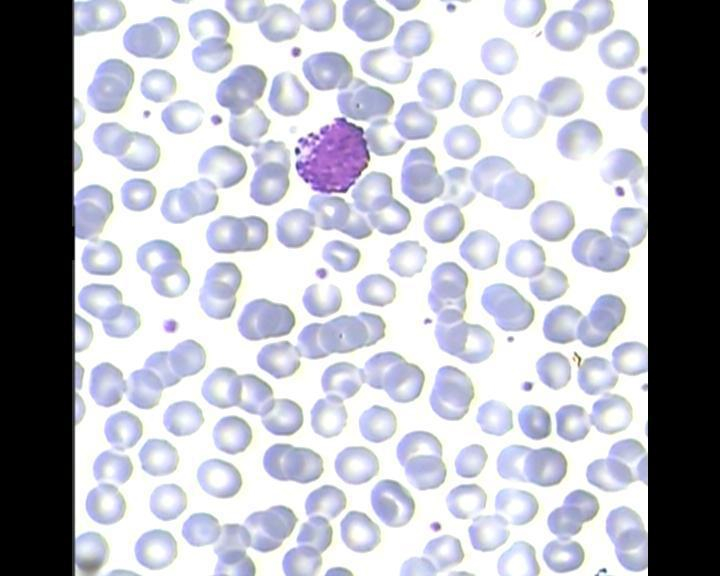baso: (290, 112, 374, 196)
